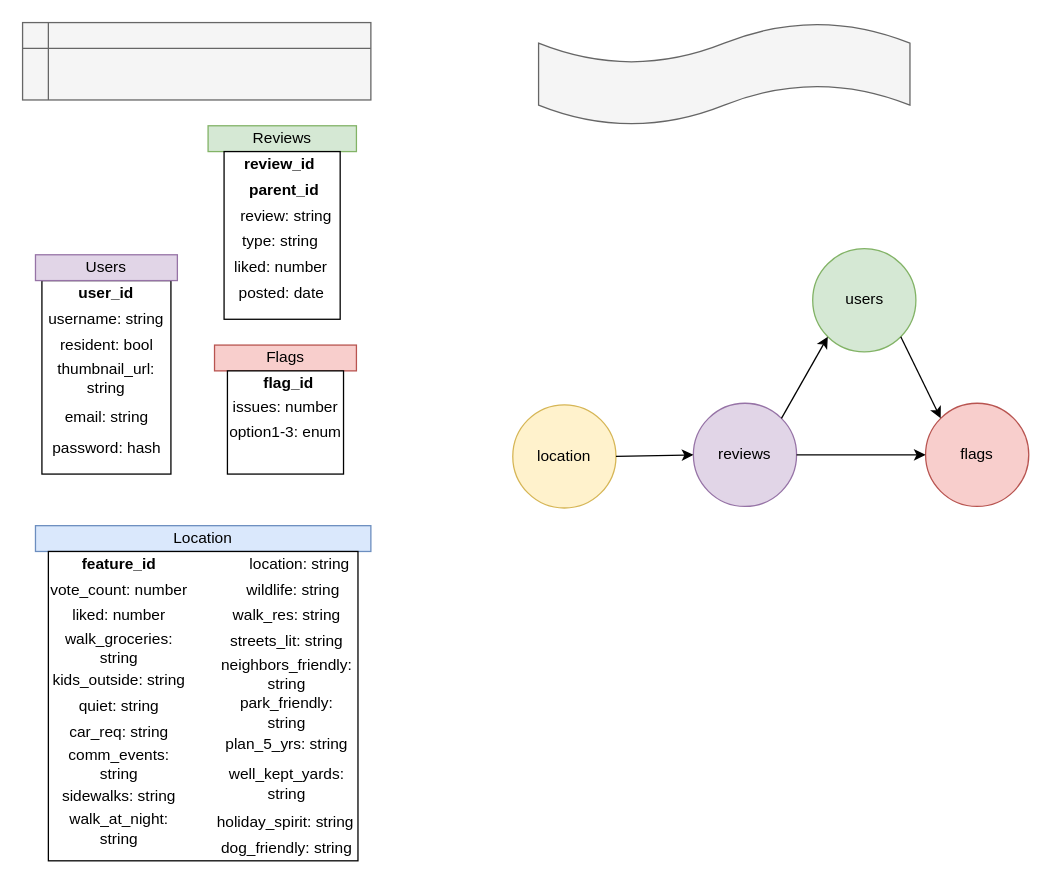
Image size: 1051x884. Some labels were removed from this diagram. The shapes that lost their labels are listed below. From the top down, each one's centre as x and y in pixels, then its label:
At point (196, 60): "Documents".
At point (723, 73): "Edges".
